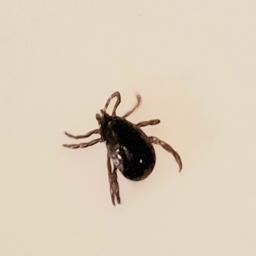Rhipicephalus sanguineus: (61, 90, 184, 207)
